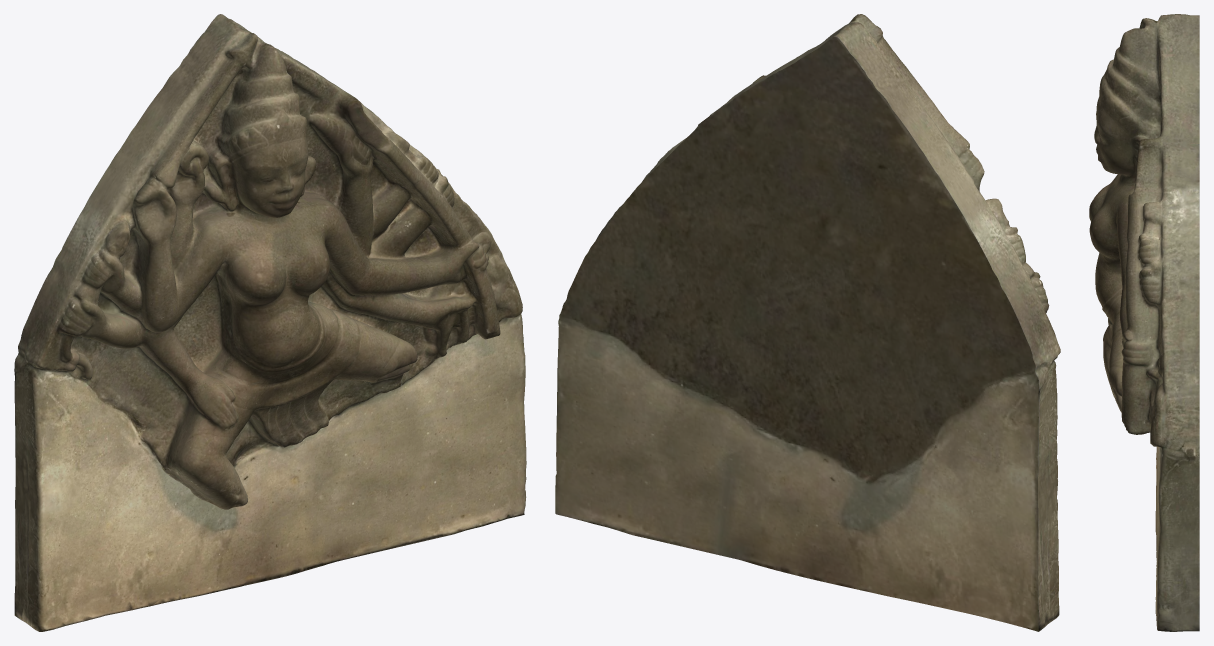
File: 10_durga_final.glb
3 views of the same model, side by side, from view 1: azimuth 30°, elevation 25°; view 2: azimuth 150°, elevation 25°; view 3: azimuth 270°, elevation 25° (orthographic). The views are drawn at different scales.
Size of the model in its own units: 0.8371 by 0.9068 by 0.1832.
1 material, 1 textured.
